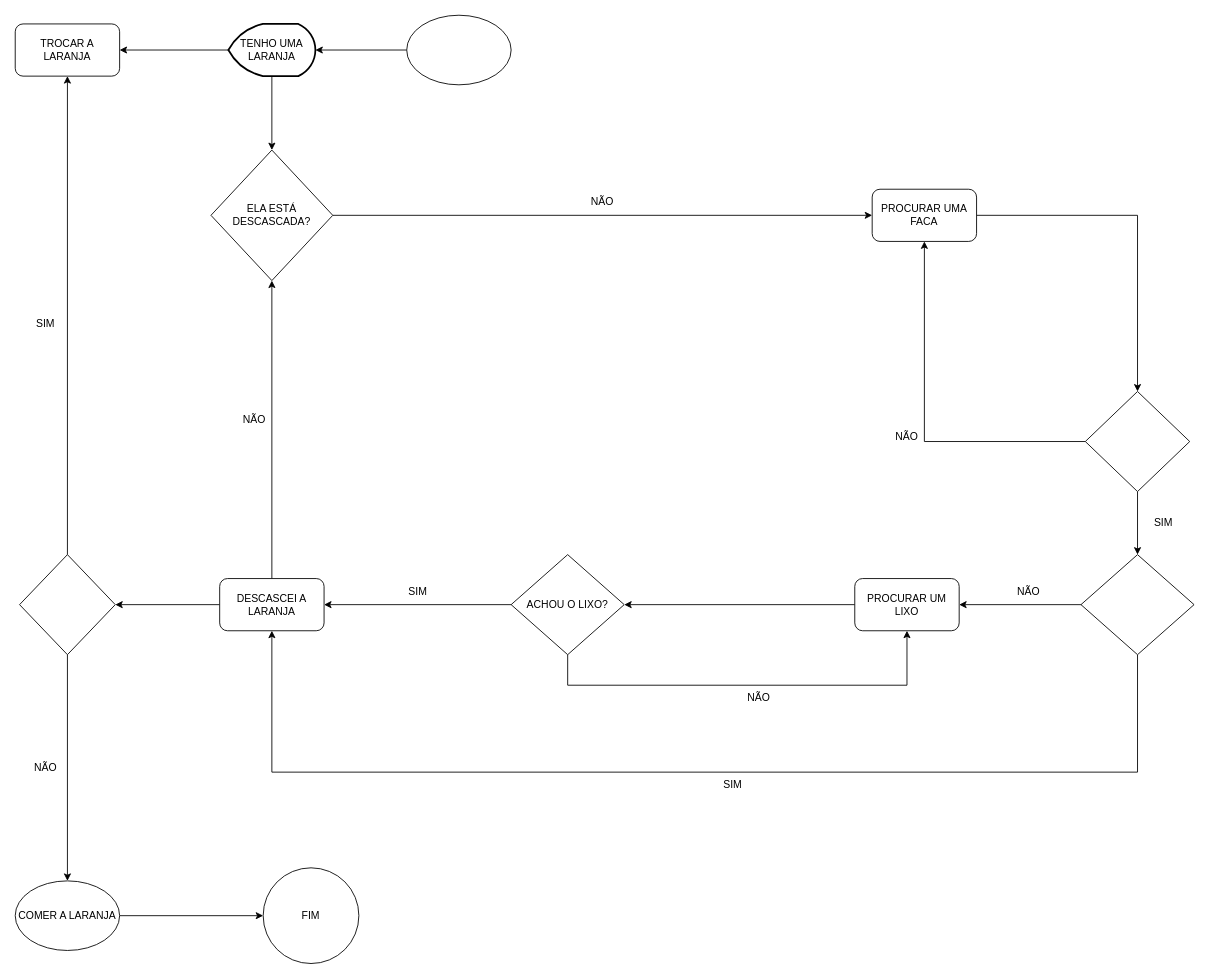
This 1209x979 diagram has some shape labels left out. Each missing label, with the box of its shape:
ACHOU A FACA?: (1084, 391, 1190, 492)
ESTÁ PODRE?: (19, 554, 115, 655)
INICIO: (406, 14, 511, 85)
TENHO UM LIXO?: (1080, 554, 1194, 655)
